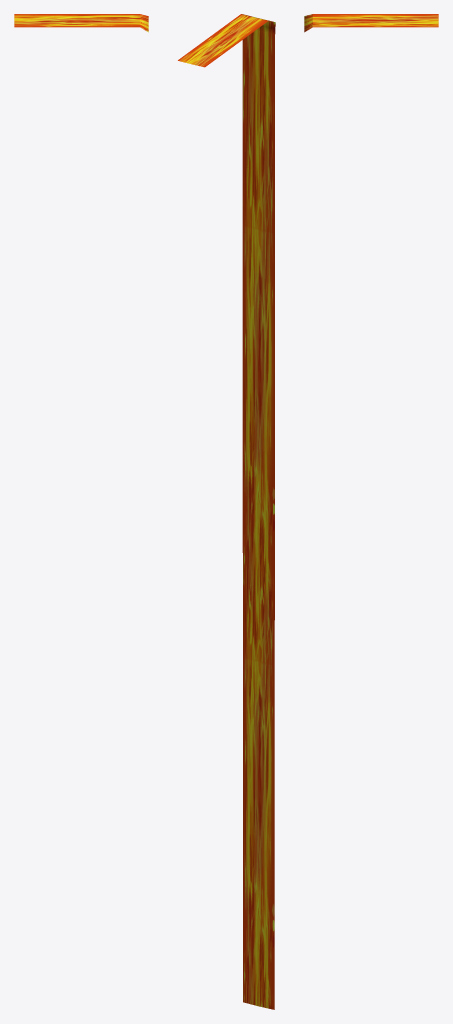
File: 10405_magma02.FBX
3 views of the same model, side by side, from view 1: azimuth 90°, elevation 25°; view 2: azimuth 150°, elevation 25°; view 3: azimuth 270°, elevation 25° (orthographic).
Visible parts, largest first — view 1: 10405_magma02; view 2: 10405_magma02; view 3: 10405_magma02.
Boxes of the visible parts, <box> form: 10405_magma02: <box>14,14,148,32</box>; 10405_magma02: <box>178,14,275,1009</box>; 10405_magma02: <box>304,14,438,32</box>.
Bounding box in the file's own units: 111 × 3125 × 387.
